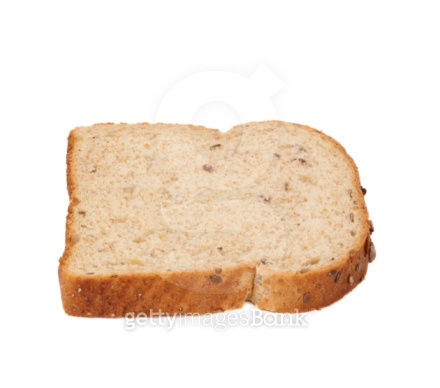slice of bread: (62, 118, 380, 318)
